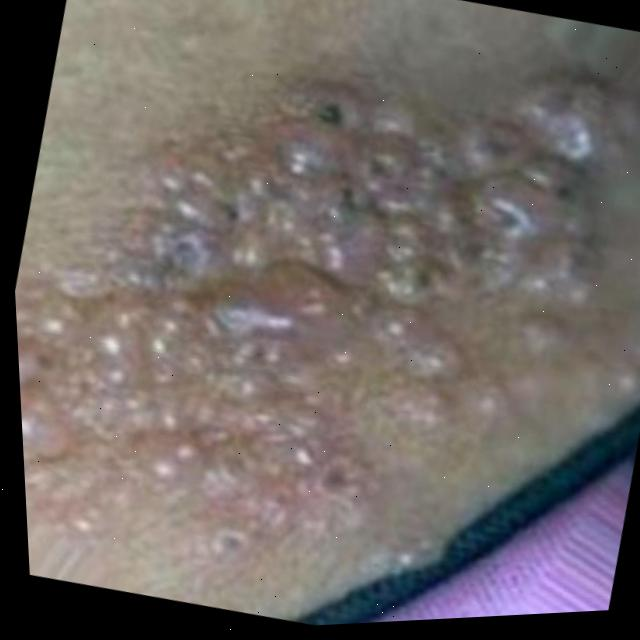Shingles: (2, 1, 630, 575)
